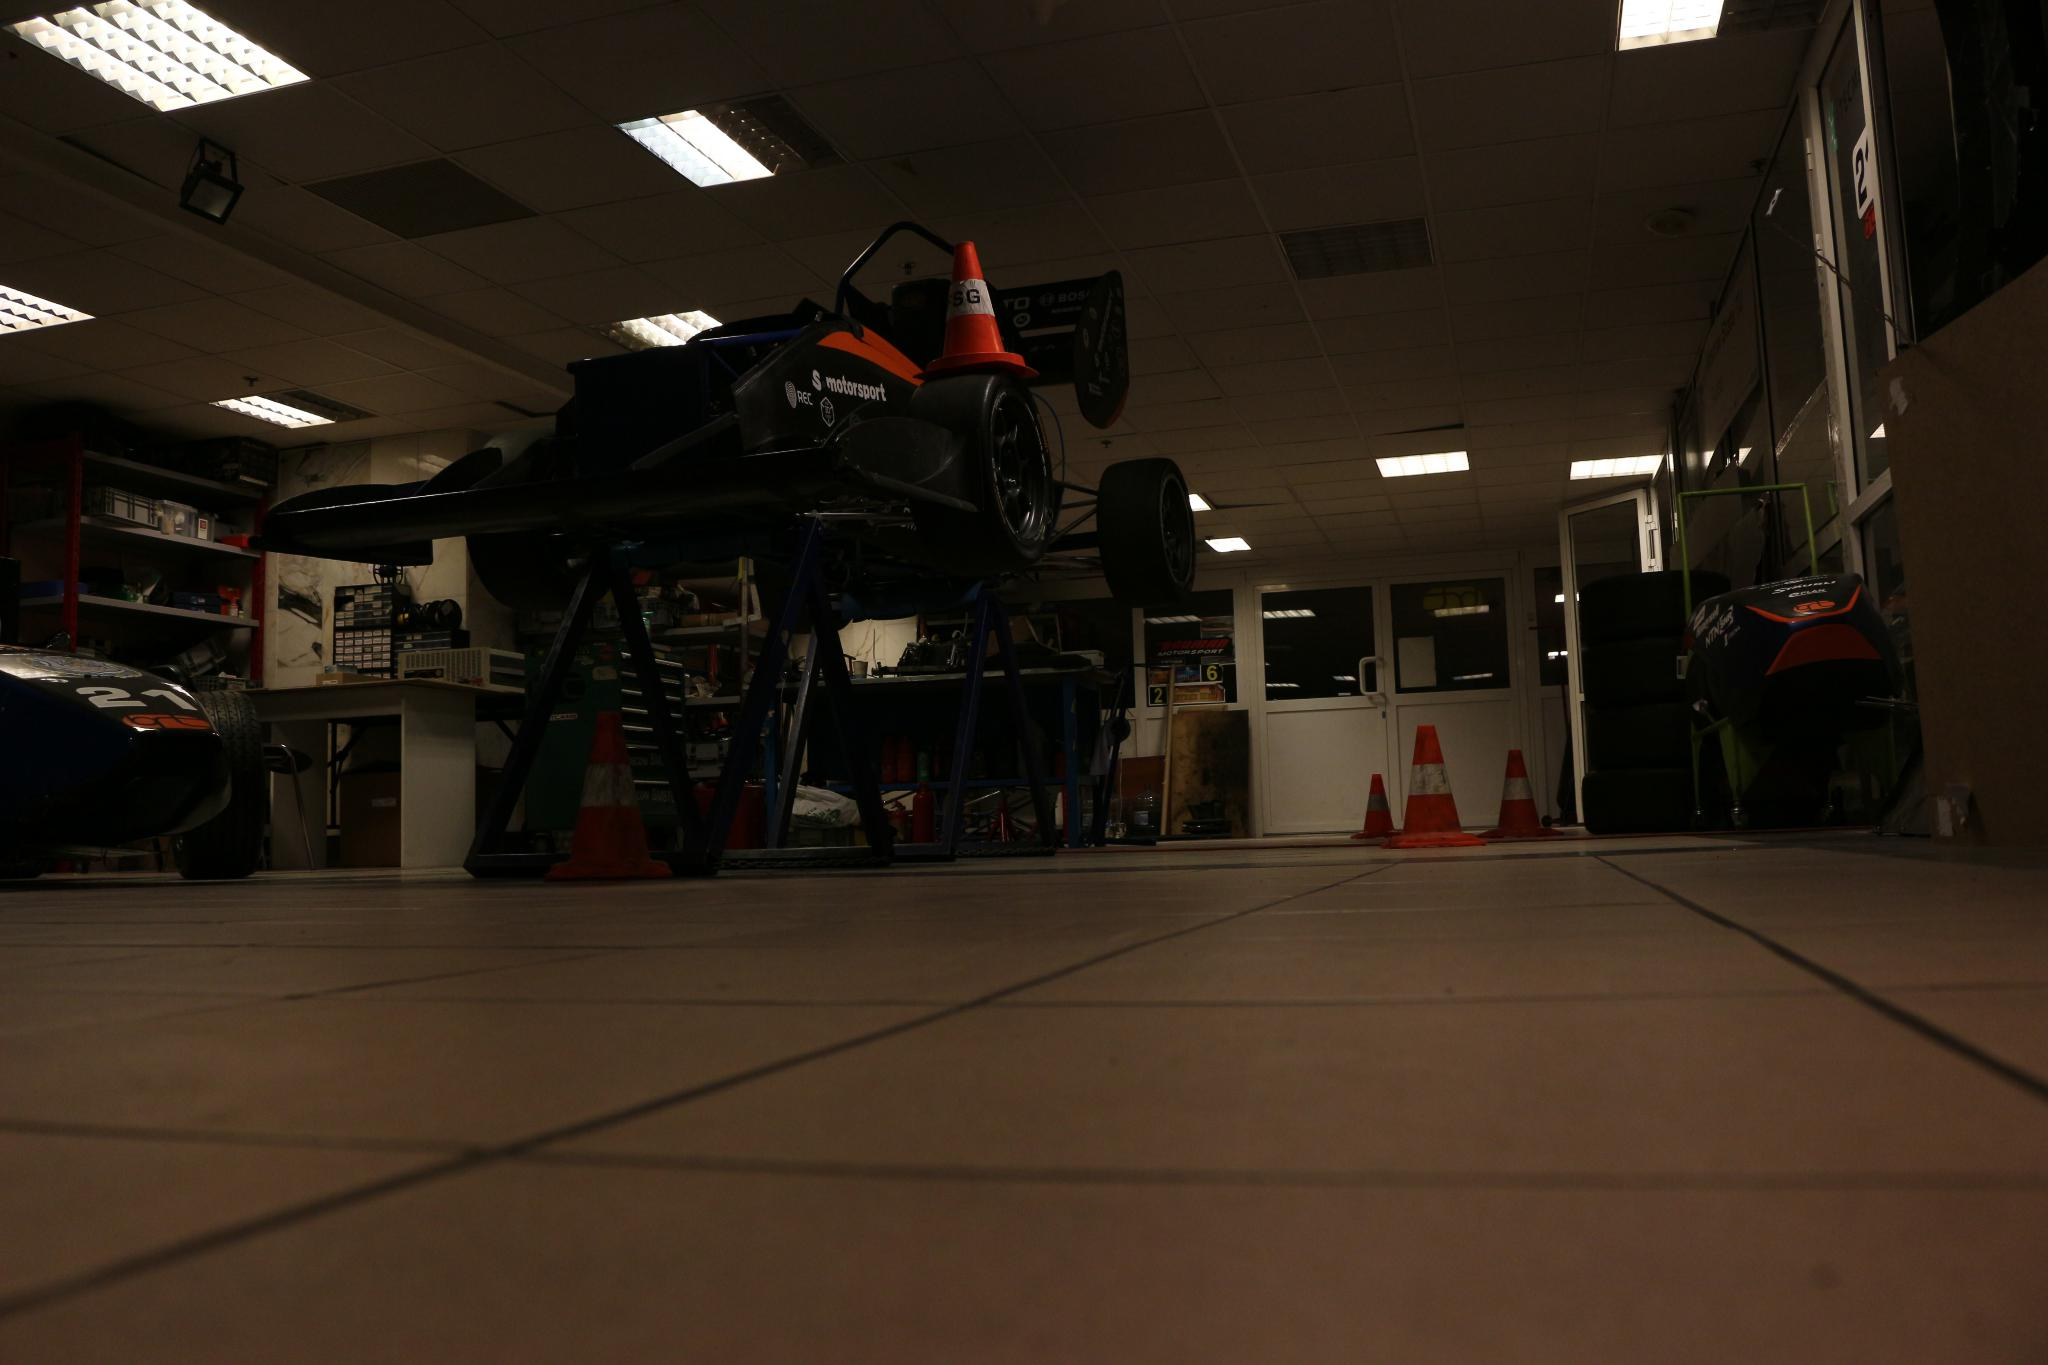Orange_Cone: (539, 705, 676, 882), (917, 236, 1037, 375), (1387, 718, 1489, 849), (1477, 746, 1565, 842), (1349, 771, 1404, 841)
